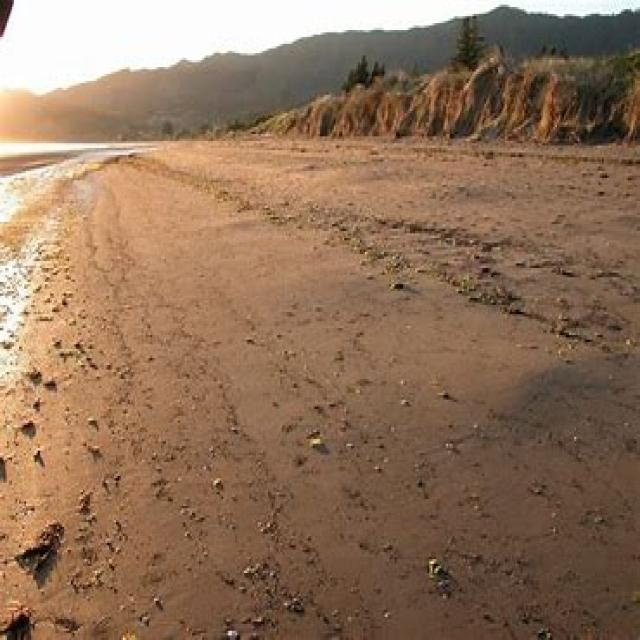Alluvial Soil: (144, 203, 600, 592)
